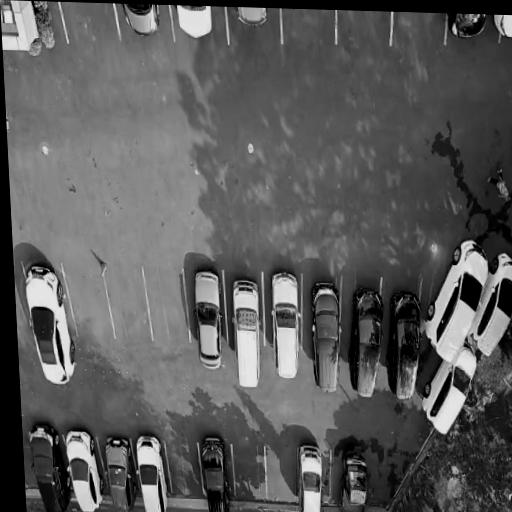Car: (421, 231, 498, 376), (19, 262, 83, 389), (418, 341, 482, 441), (343, 283, 389, 403), (467, 249, 512, 364), (22, 420, 77, 512), (384, 285, 427, 402), (268, 264, 306, 385), (308, 277, 346, 396), (59, 423, 109, 512), (231, 271, 265, 396), (191, 265, 226, 375), (131, 431, 171, 512), (101, 432, 141, 512), (198, 429, 235, 512), (295, 440, 328, 512), (338, 449, 374, 512), (122, 4, 166, 42), (175, 5, 218, 42), (447, 13, 491, 39), (235, 7, 270, 33), (494, 15, 512, 45)
Space Available: (62, 266, 115, 339), (104, 269, 152, 340), (144, 270, 189, 342), (59, 3, 121, 43), (335, 10, 393, 51), (391, 13, 449, 50), (280, 10, 336, 47), (232, 445, 266, 505), (165, 445, 202, 499), (265, 446, 298, 506)
